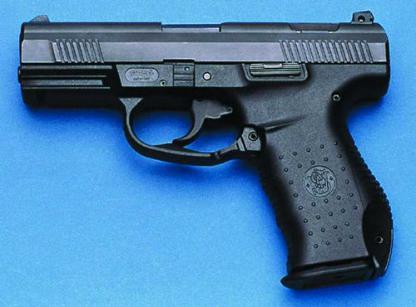pistol: (19, 12, 394, 288)
